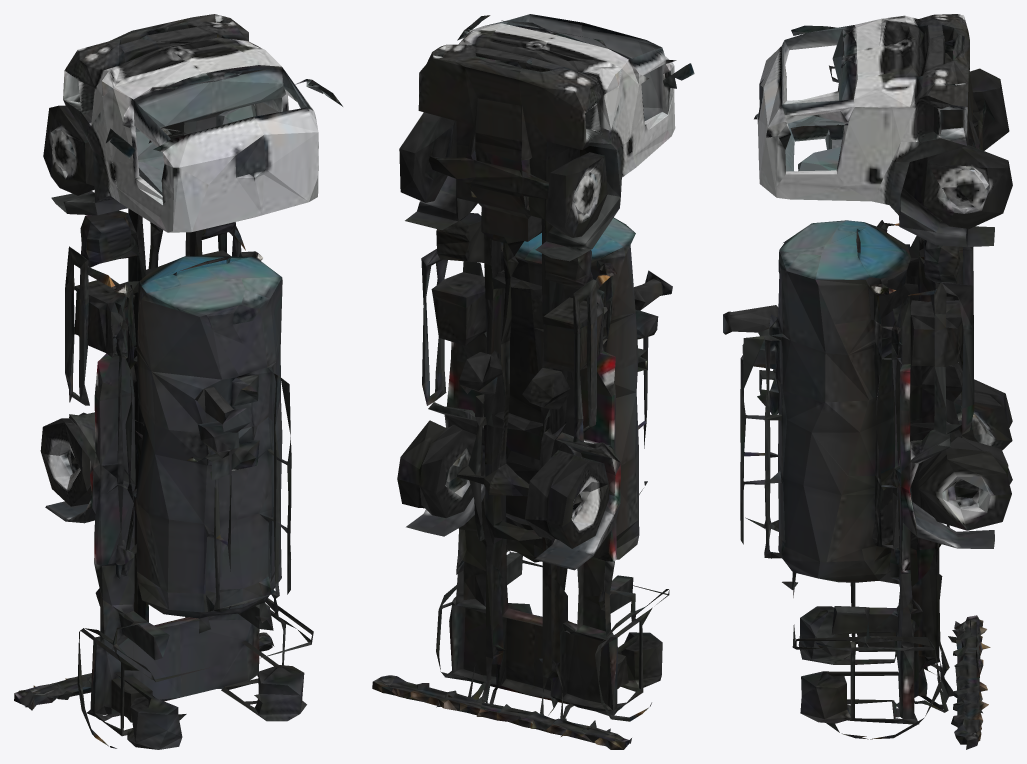
Rendered from caminhao_espargidor.glb.
3 renders of one model, left to right at view 1: azimuth 30°, elevation 25°; view 2: azimuth 150°, elevation 25°; view 3: azimuth 270°, elevation 25°, orthographic.
Parts seen in each view (by area): view 1: n0; view 2: n0; view 3: n0.
Part boxes in pixels (left/top/right/bottom): n0: left=14, top=14, right=342, bottom=749; n0: left=372, top=14, right=694, bottom=749; n0: left=723, top=14, right=1012, bottom=749.
Bounding box in the file's own units: 3.22 × 8 × 3.2.
Materials: 1 (1 with a texture image).
